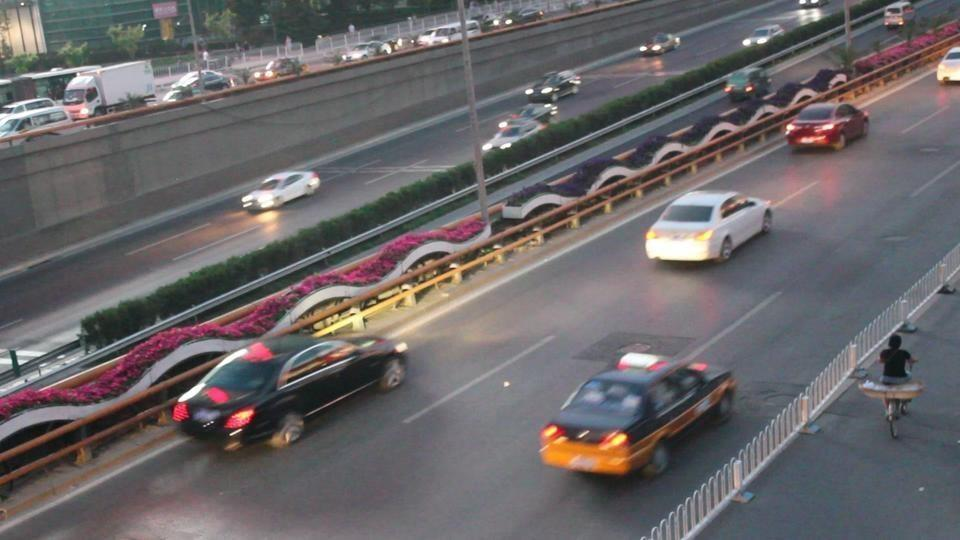car: (172, 332, 410, 449), (540, 340, 738, 480), (500, 153, 641, 224), (644, 189, 774, 265), (783, 101, 870, 152), (241, 169, 321, 214), (483, 110, 549, 152), (0, 98, 68, 132), (163, 70, 233, 101), (525, 71, 581, 104), (722, 65, 774, 100), (248, 59, 303, 84), (338, 41, 389, 63), (742, 25, 784, 49), (641, 32, 681, 55), (936, 47, 960, 85)
